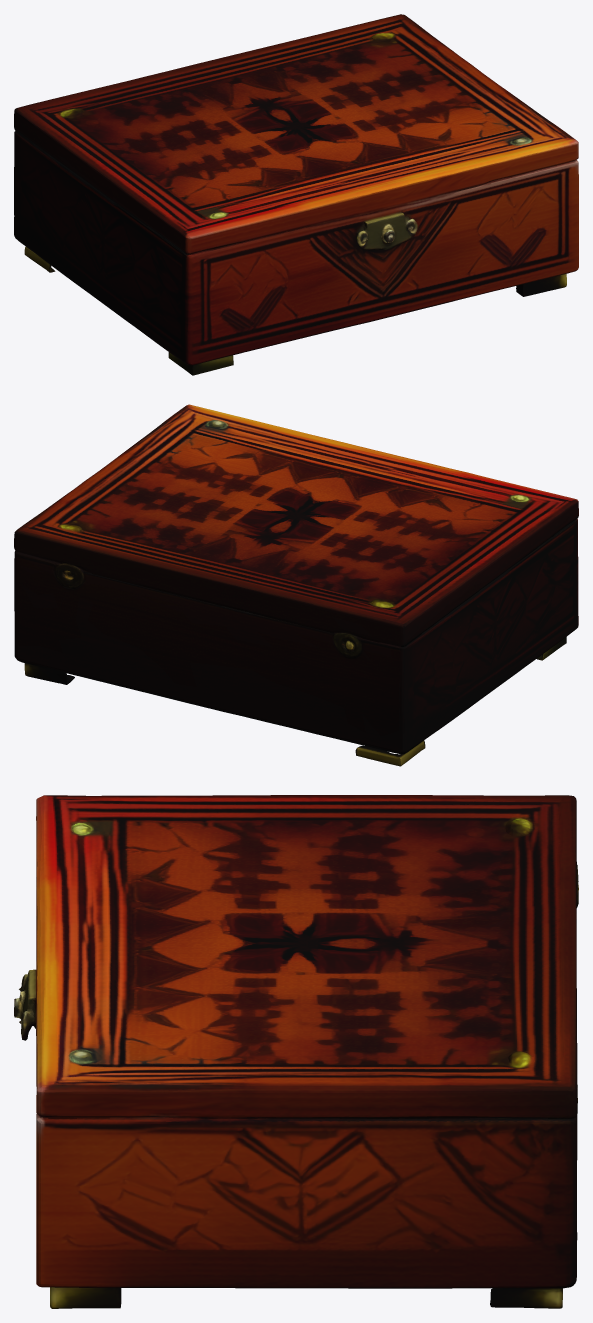
File: wooden-tea-box-art-deco.jpeg.glb
3 views of the same model, one above another, from view 1: azimuth 30°, elevation 25°; view 2: azimuth 150°, elevation 25°; view 3: azimuth 270°, elevation 25° (orthographic). The views are drawn at different scales.
Parts seen in each view (by area): view 1: world; view 2: world; view 3: world.
Part boxes in pixels (x1,y1,x2,y2): world: (14, 14, 578, 375); world: (14, 404, 578, 766); world: (14, 795, 578, 1308).
Size of the model in its own units: 1 by 0.3607 by 0.8078.
1 material, 1 textured.
